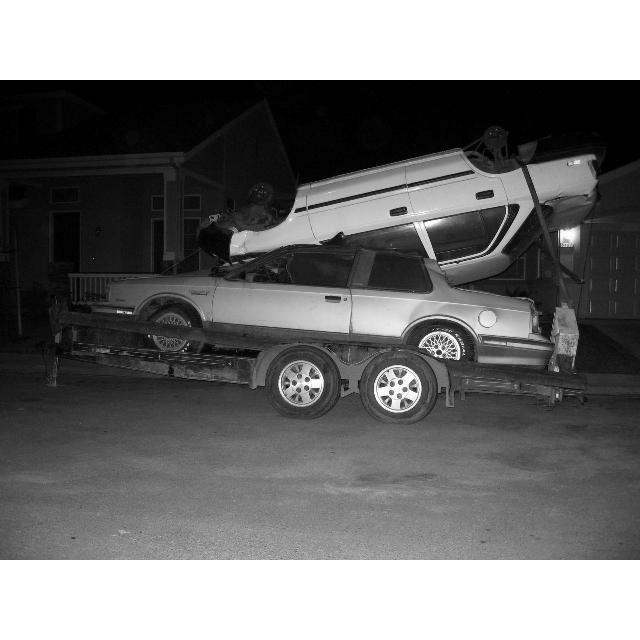quaterpanel-dent: (419, 292, 490, 320)
